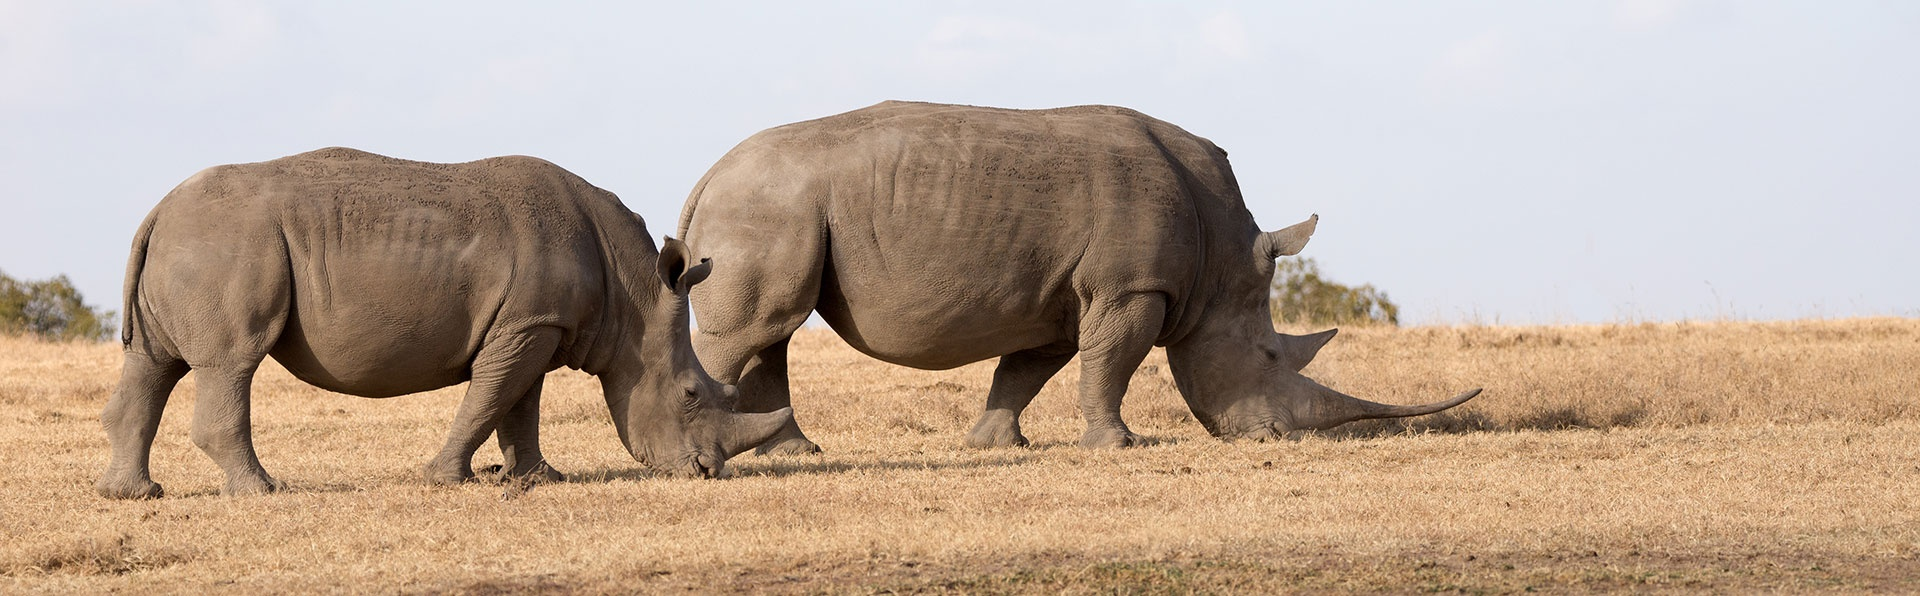rhino: (669, 94, 1483, 455), (93, 151, 800, 499)
